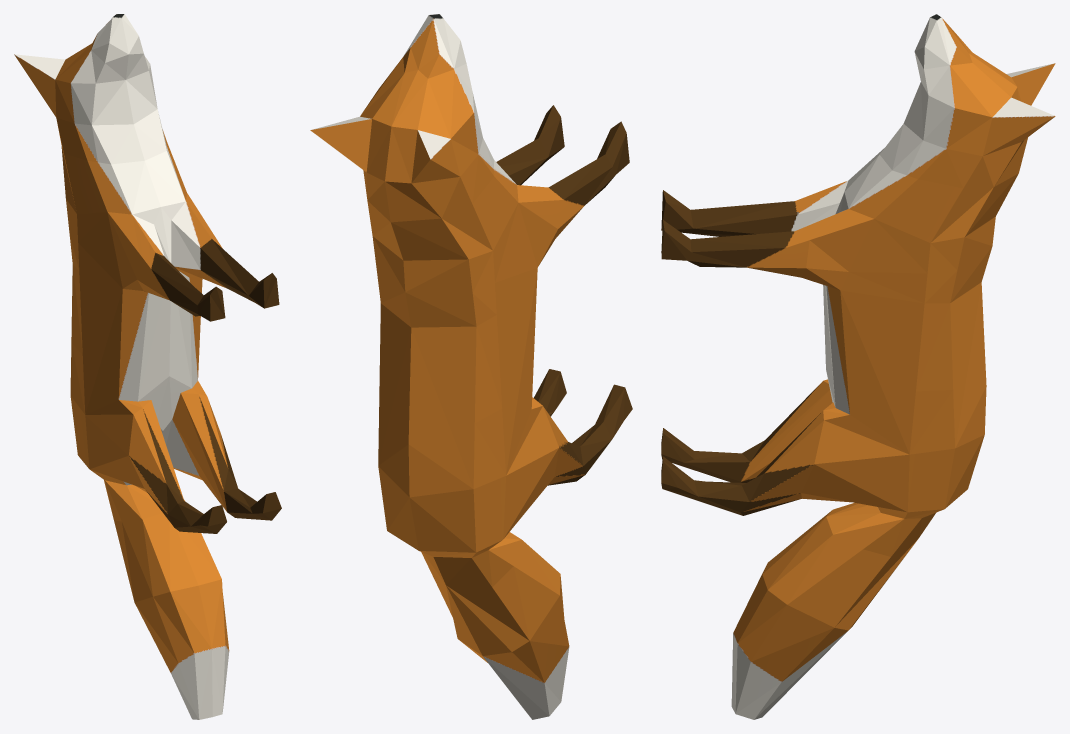
Rendered from fox.fbx.
3 renders of one model, left to right at view 1: azimuth 30°, elevation 25°; view 2: azimuth 150°, elevation 25°; view 3: azimuth 270°, elevation 25°, orthographic. The views are drawn at different scales.
Parts seen in each view (by area): view 1: fox1; view 2: fox1; view 3: fox1.
Boxes of the visible parts, x1,y1,x2,y2 form: fox1: (14,14,281,719); fox1: (310,14,632,719); fox1: (661,14,1055,719).
Bounding box in the file's own units: 39.34 × 242 × 123.
